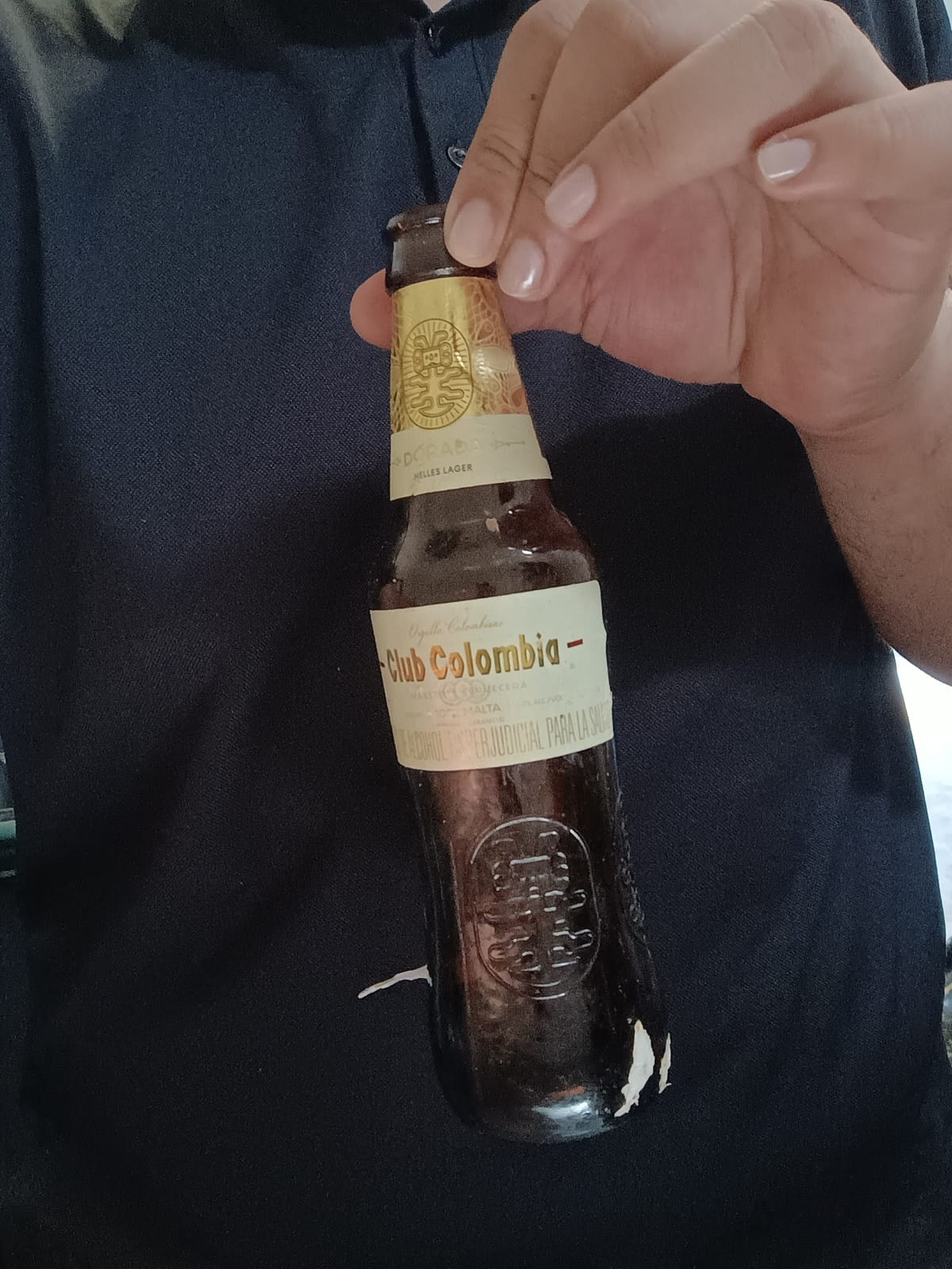Vidrio: (368, 207, 680, 1143)
